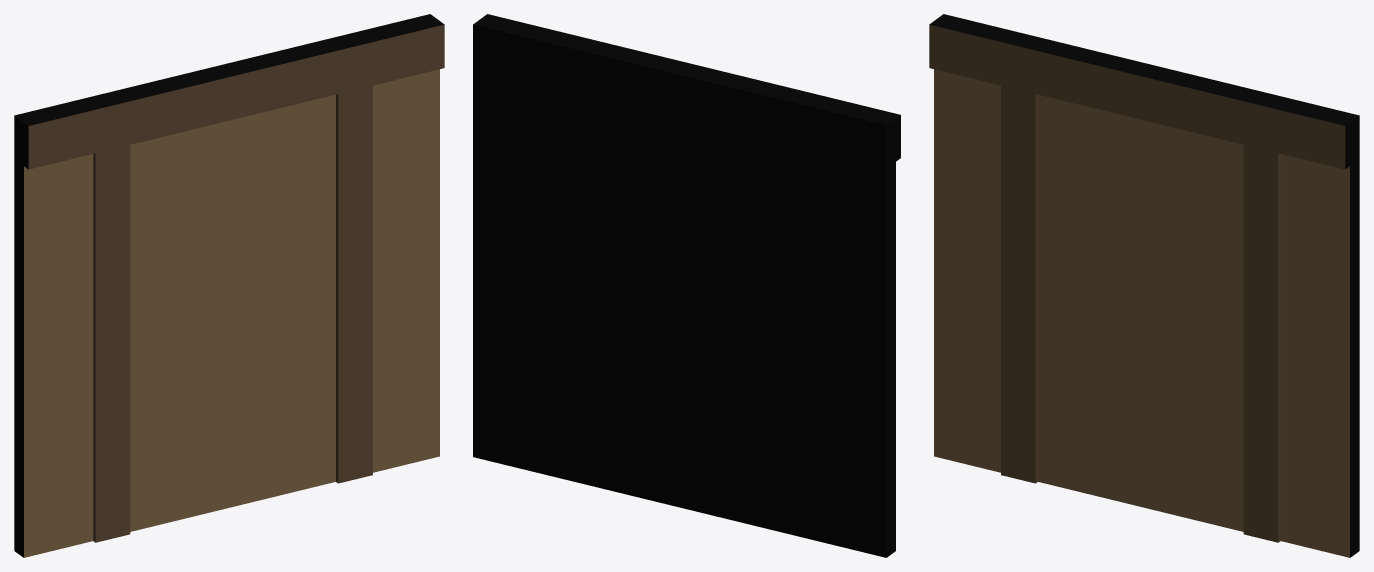
Rendered from M_Wall_Big_BorderReliefTop.fbx.
The picture shows the model from 3 angles, left to right: view 1: azimuth 30°, elevation 25°; view 2: azimuth 150°, elevation 25°; view 3: azimuth 330°, elevation 25°; orthographic projection.
Visible parts, largest first — view 1: M_Wall_Big_BorderReliefTop; view 2: M_Wall_Big_BorderReliefTop; view 3: M_Wall_Big_BorderReliefTop.
Part boxes in pixels (x1,y1,x2,y2): M_Wall_Big_BorderReliefTop: [14, 14, 444, 557]; M_Wall_Big_BorderReliefTop: [473, 14, 900, 557]; M_Wall_Big_BorderReliefTop: [929, 14, 1359, 557].
Bounding box in the file's own units: 500 × 500 × 30.
